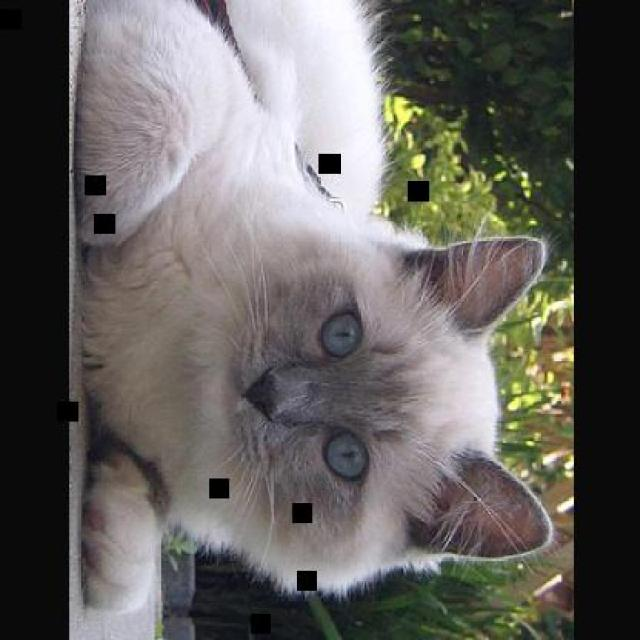unauthorized: (72, 0, 563, 614)
